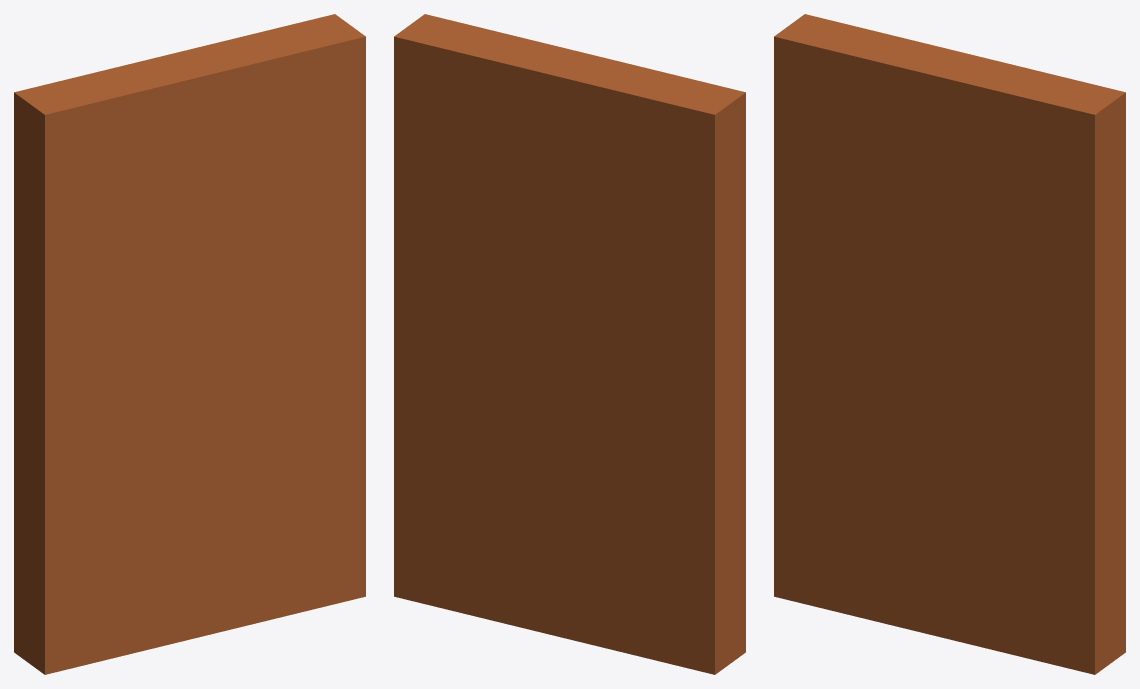
Rendered from wall.glb.
3 views of the same model, side by side, from view 1: azimuth 30°, elevation 25°; view 2: azimuth 150°, elevation 25°; view 3: azimuth 330°, elevation 25° (orthographic).
Parts seen in each view (by area): view 1: Cube.001_tcollider, Cube_tcollider, Cube.002_tcollider; view 2: Cube.001_tcollider, Cube_tcollider, Cube.002_tcollider; view 3: Cube.001_tcollider, Cube.002_tcollider, Cube_tcollider.
Part boxes in pixels (x1,y1,x2,y2): Cube.001_tcollider: (68,27,312,661); Cube_tcollider: (14,79,98,674); Cube.002_tcollider: (282,14,365,609); Cube.001_tcollider: (447,27,691,661); Cube_tcollider: (661,79,745,674); Cube.002_tcollider: (394,14,477,609); Cube.001_tcollider: (827,27,1071,661); Cube.002_tcollider: (1041,79,1125,674); Cube_tcollider: (774,14,857,609).
Bounding box in the file's own units: 2.4 × 4 × 0.4.
